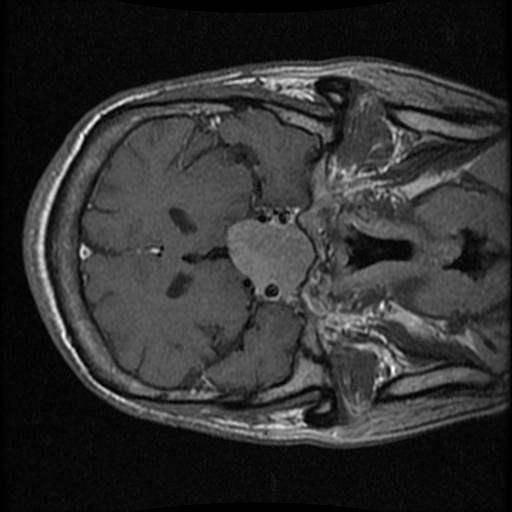pituitary tumour: (228, 222, 311, 287)
